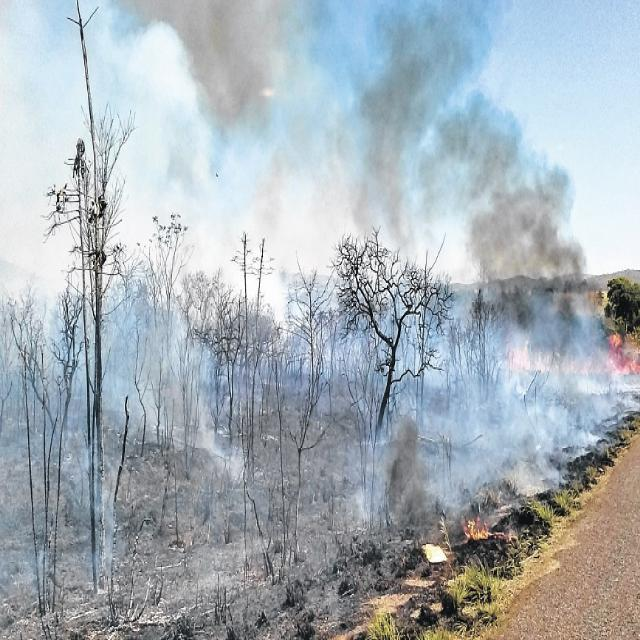Smoke: (349, 19, 624, 476)
